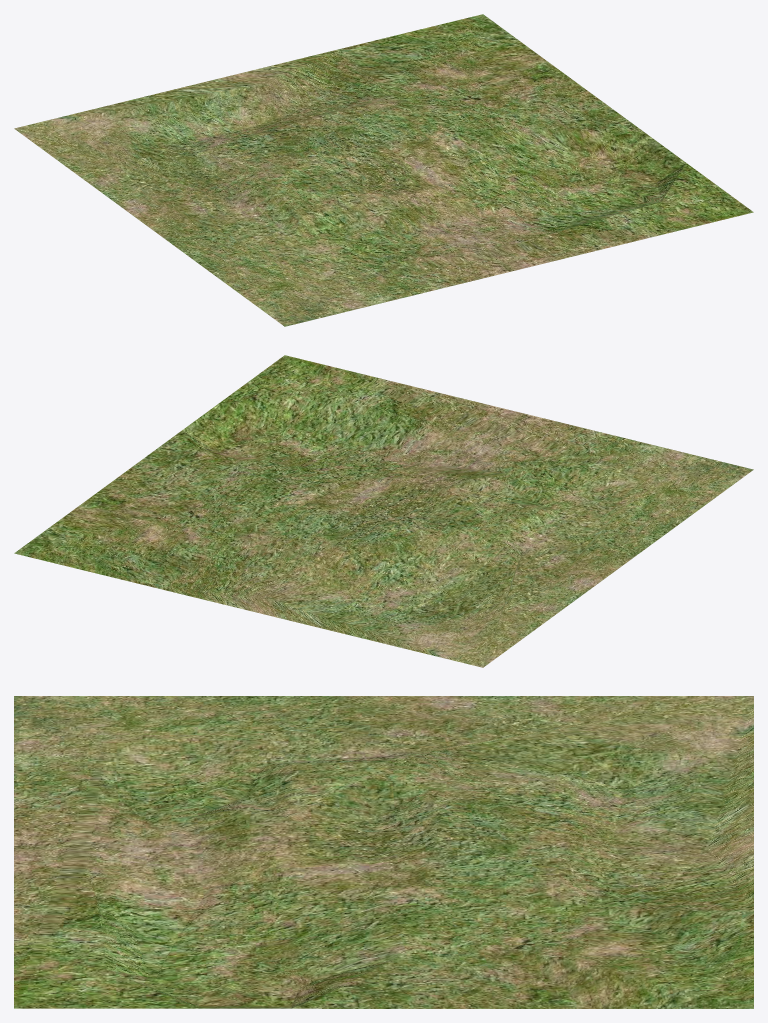
Rendered from grass2.obj.
The picture shows the model from 3 angles, top to bottom: view 1: azimuth 30°, elevation 25°; view 2: azimuth 150°, elevation 25°; view 3: azimuth 270°, elevation 25°; orthographic projection. The views are drawn at different scales.
Visible parts, largest first — view 1: Plane; view 2: Plane; view 3: Plane.
Boxes of the visible parts, box(x1,y1,x2,y2) form: Plane: box(14, 14, 753, 326); Plane: box(14, 355, 753, 667); Plane: box(14, 696, 753, 1008).
Bounding box in the file's own units: 2 × 0.1002 × 2.
